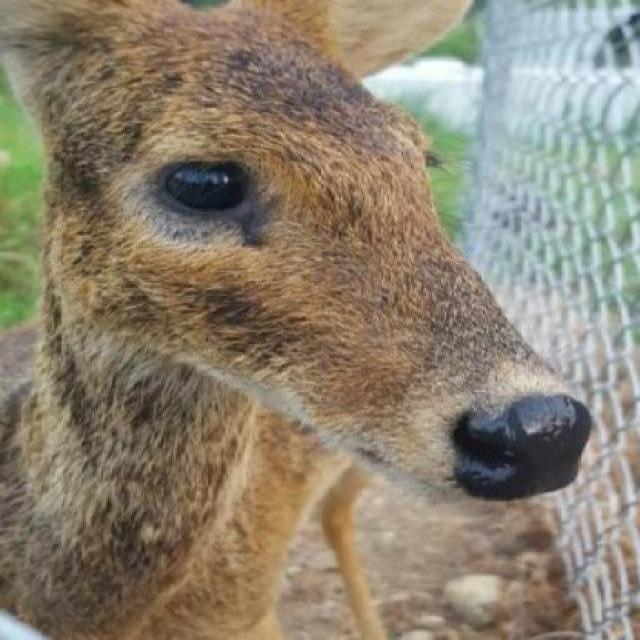deer: (0, 0, 606, 637)
